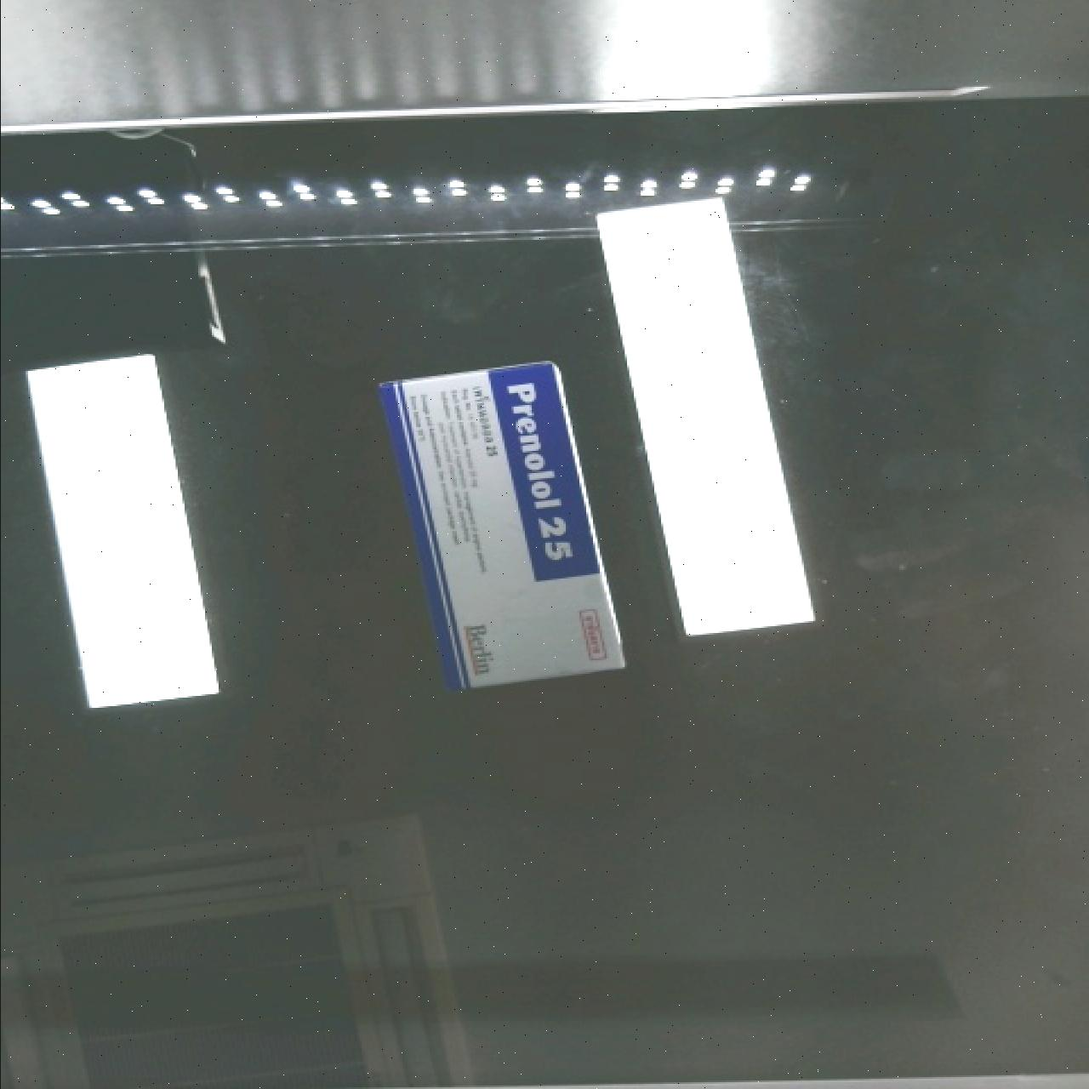medicine_label_obb: (485, 362, 597, 587)
